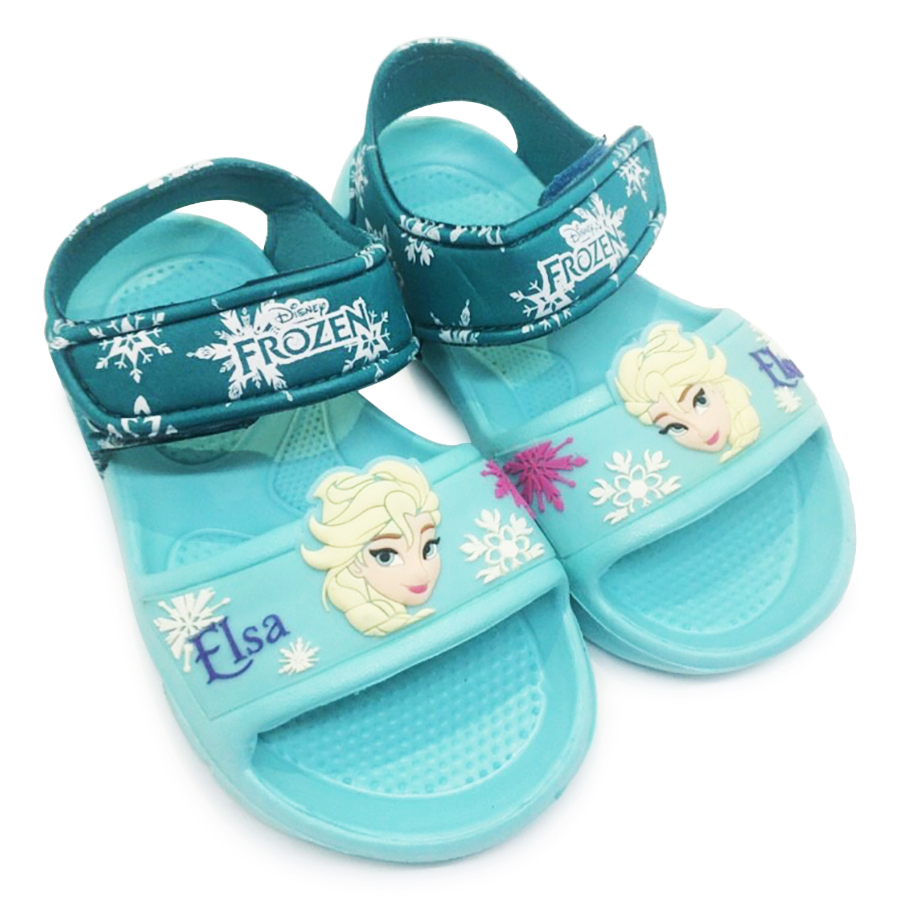Disney: (551, 209, 627, 246), (261, 294, 340, 328)
